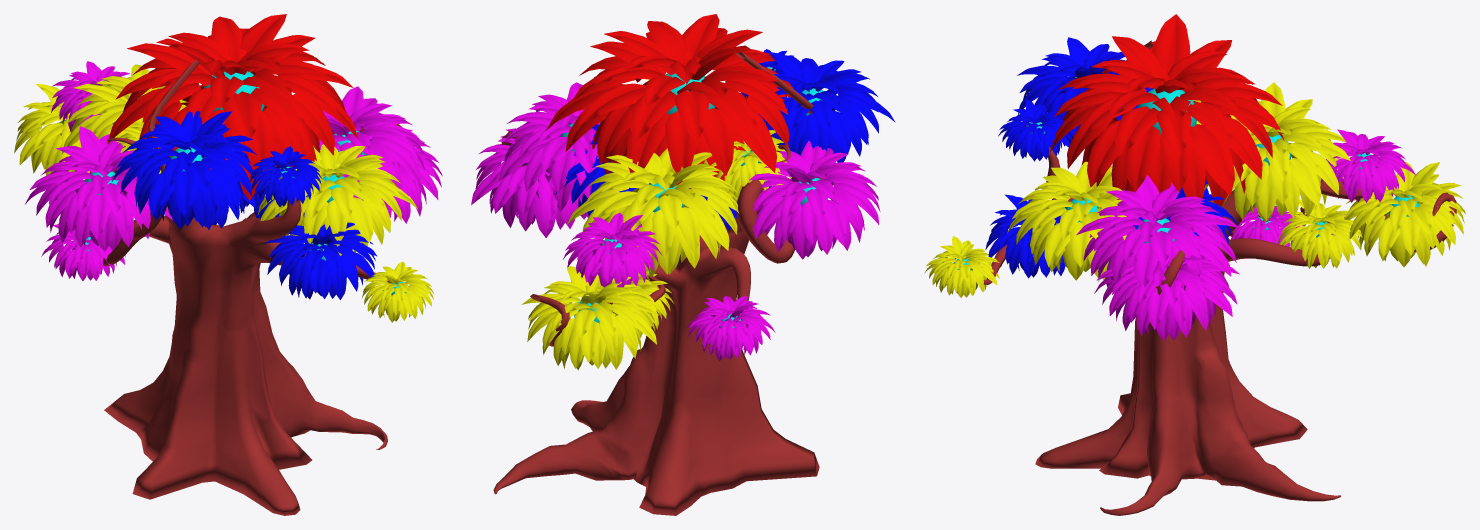
The model's file is THEtree unwrapped.fbx.
The picture shows the model from 3 angles, left to right: view 1: azimuth 30°, elevation 25°; view 2: azimuth 150°, elevation 25°; view 3: azimuth 270°, elevation 25°; orthographic projection. The views are drawn at different scales.
Parts seen in each view (by area): view 1: LargeTreeTrunk, LeafBundle12, LeafBundle15, LeafBundle, LeafBundle10, LeafBundle11, LeafBundle2, LeafBundle6, LeafBundle9, LeafBundle7, LeafBundle16, LeafBundle1 (+4 smaller); view 2: LargeTreeTrunk, LeafBundle12, LeafBundle9, LeafBundle, LeafBundle6, LeafBundle15, LeafBundle2, LeafBundle4, LeafBundle3, LeafBundle1, LeafBundle8, LeafBundle13 (+2 smaller); view 3: LargeTreeTrunk, LeafBundle12, LeafBundle2, LeafBundle9, LeafBundle6, LeafBundle10, LeafBundle3, LeafBundle15, LeafBundle4, LeafBundle5, LeafBundle7, LeafBundle16 (+4 smaller).
Boxes of the visible parts, x1,y1,x2,y2 form: LargeTreeTrunk: (90,60,422,515); LeafBundle12: (107,14,357,200); LeafBundle15: (112,111,257,229); LeafBundle: (25,126,172,251); LeafBundle10: (257,144,418,255); LeafBundle11: (265,212,377,299); LeafBundle2: (319,86,425,207); LeafBundle6: (14,84,89,179); LeafBundle9: (61,64,187,154); LeafBundle7: (361,261,433,322); LeafBundle16: (250,146,321,207); LeafBundle1: (41,223,125,280); LargeTreeTrunk: (493,52,822,515); LeafBundle12: (546,14,793,193); LeafBundle9: (566,148,739,280); LeafBundle: (749,140,880,259); LeafBundle6: (521,265,658,369); LeafBundle15: (758,52,895,162); LeafBundle2: (498,82,600,219); LeafBundle4: (563,212,662,287); LeafBundle3: (471,128,588,237); LeafBundle1: (686,296,775,361); LeafBundle8: (704,130,791,202); LeafBundle13: (555,124,636,216); LargeTreeTrunk: (983,40,1456,515); LeafBundle12: (1050,14,1284,206); LeafBundle2: (1076,175,1238,298); LeafBundle9: (1204,82,1350,222); LeafBundle6: (1344,162,1465,267); LeafBundle10: (1007,161,1126,280); LeafBundle3: (1094,240,1239,340); LeafBundle15: (1017,37,1152,146); LeafBundle4: (1320,129,1415,202); LeafBundle5: (1277,199,1362,268); LeafBundle7: (924,236,999,297); LeafBundle16: (998,99,1072,161).
Size of the model in its own units: 44.78 by 47.36 by 55.45.
